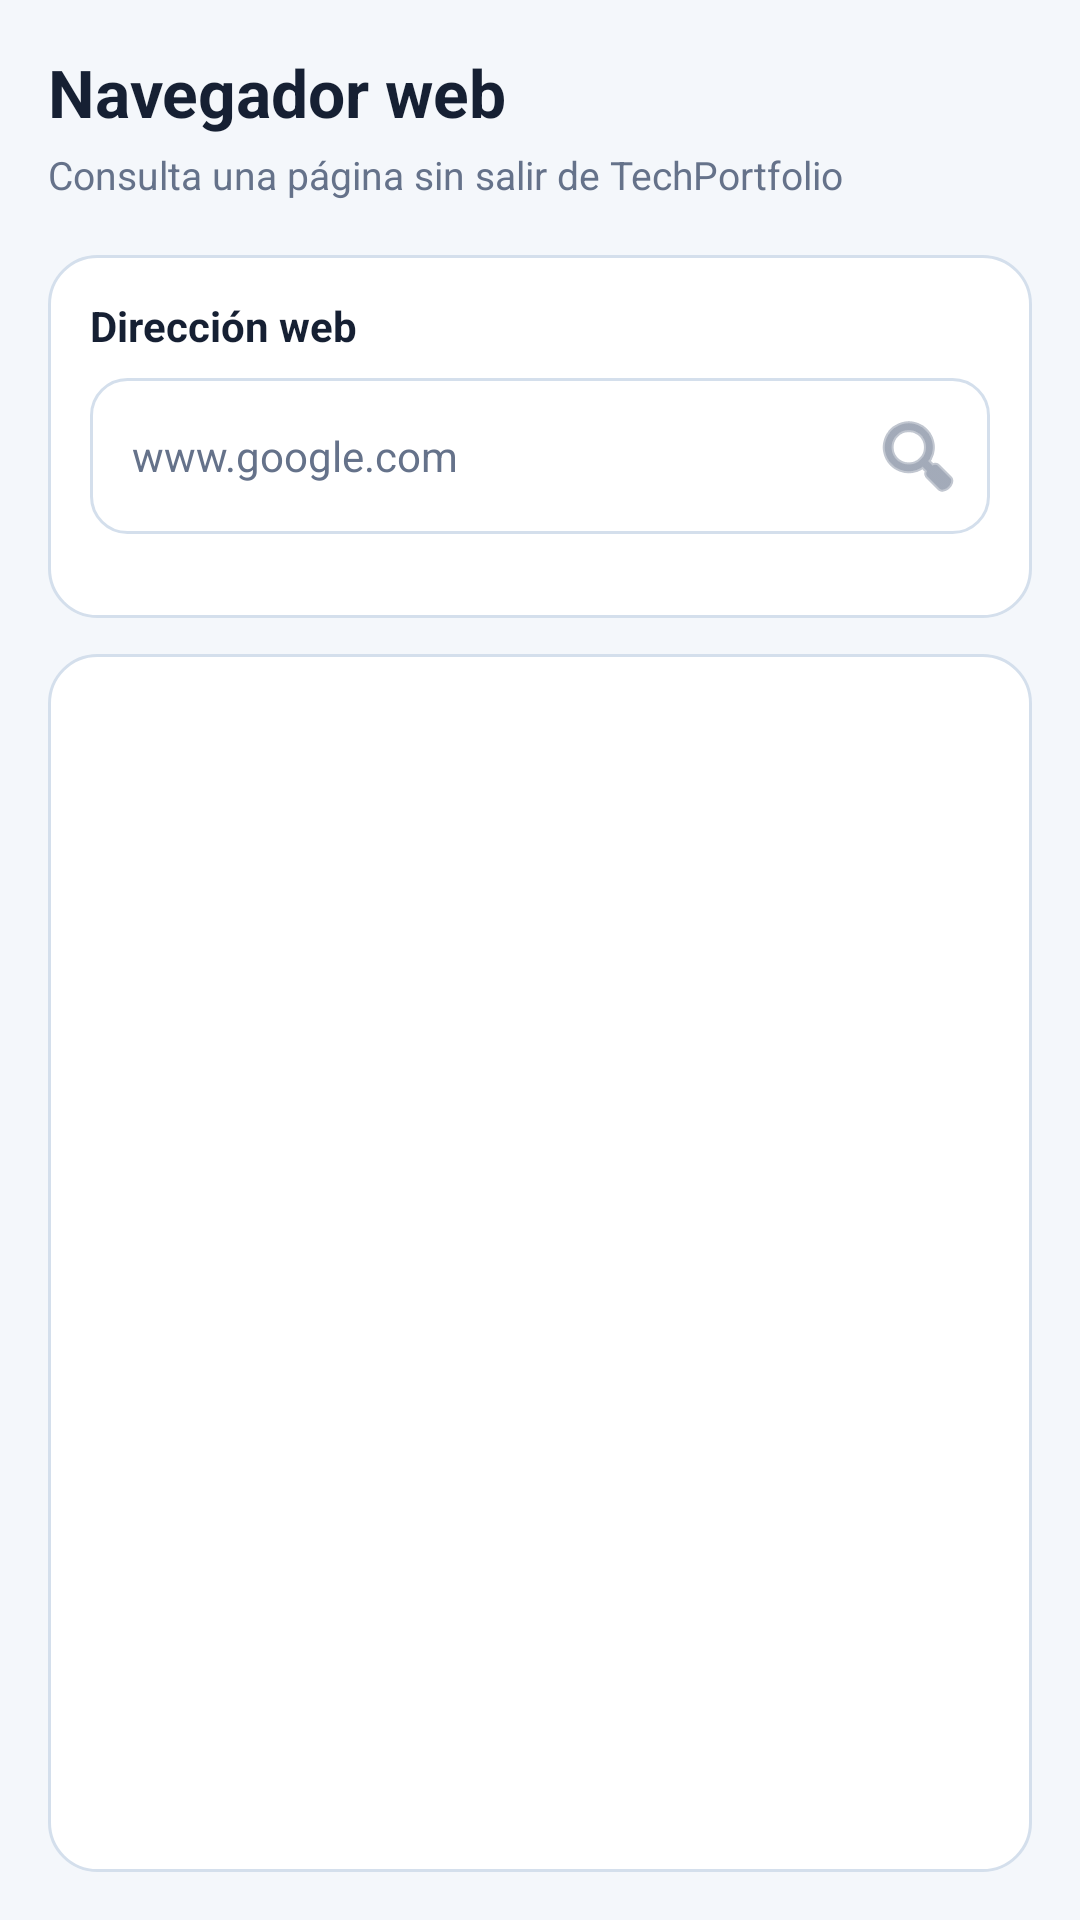

Point at icon controls on the screen. Image size 1080*1920, points as (x=x, y=y).
Buscar página: (x=918, y=456)
